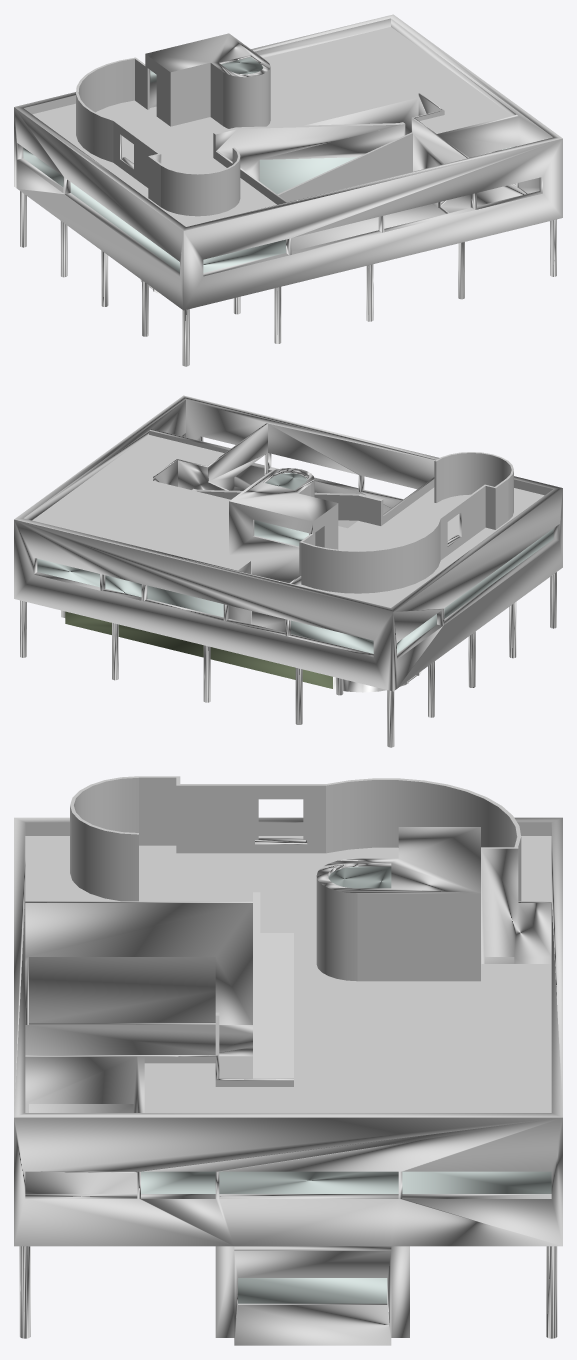
File: savoye.glb
3 renders of one model, top to bottom at view 1: azimuth 30°, elevation 25°; view 2: azimuth 150°, elevation 25°; view 3: azimuth 270°, elevation 25°, orthographic. The views are drawn at different scales.
Visible parts, largest first — view 1: Model; view 2: Model; view 3: Model.
Boxes of the visible parts, x1,y1,x2,y2 form: Model: (14,14,562,366); Model: (14,395,562,747); Model: (14,776,562,1345).
Size of the model in its own units: 193 by 88 by 147.
